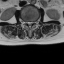CCS_normal: (28, 18, 30, 30)
LFS_stenosis: (33, 18, 35, 25)
LLS_normal: (30, 18, 33, 26)
RFS_stenosis: (24, 18, 26, 26)
RLS_normal: (26, 18, 28, 26)
